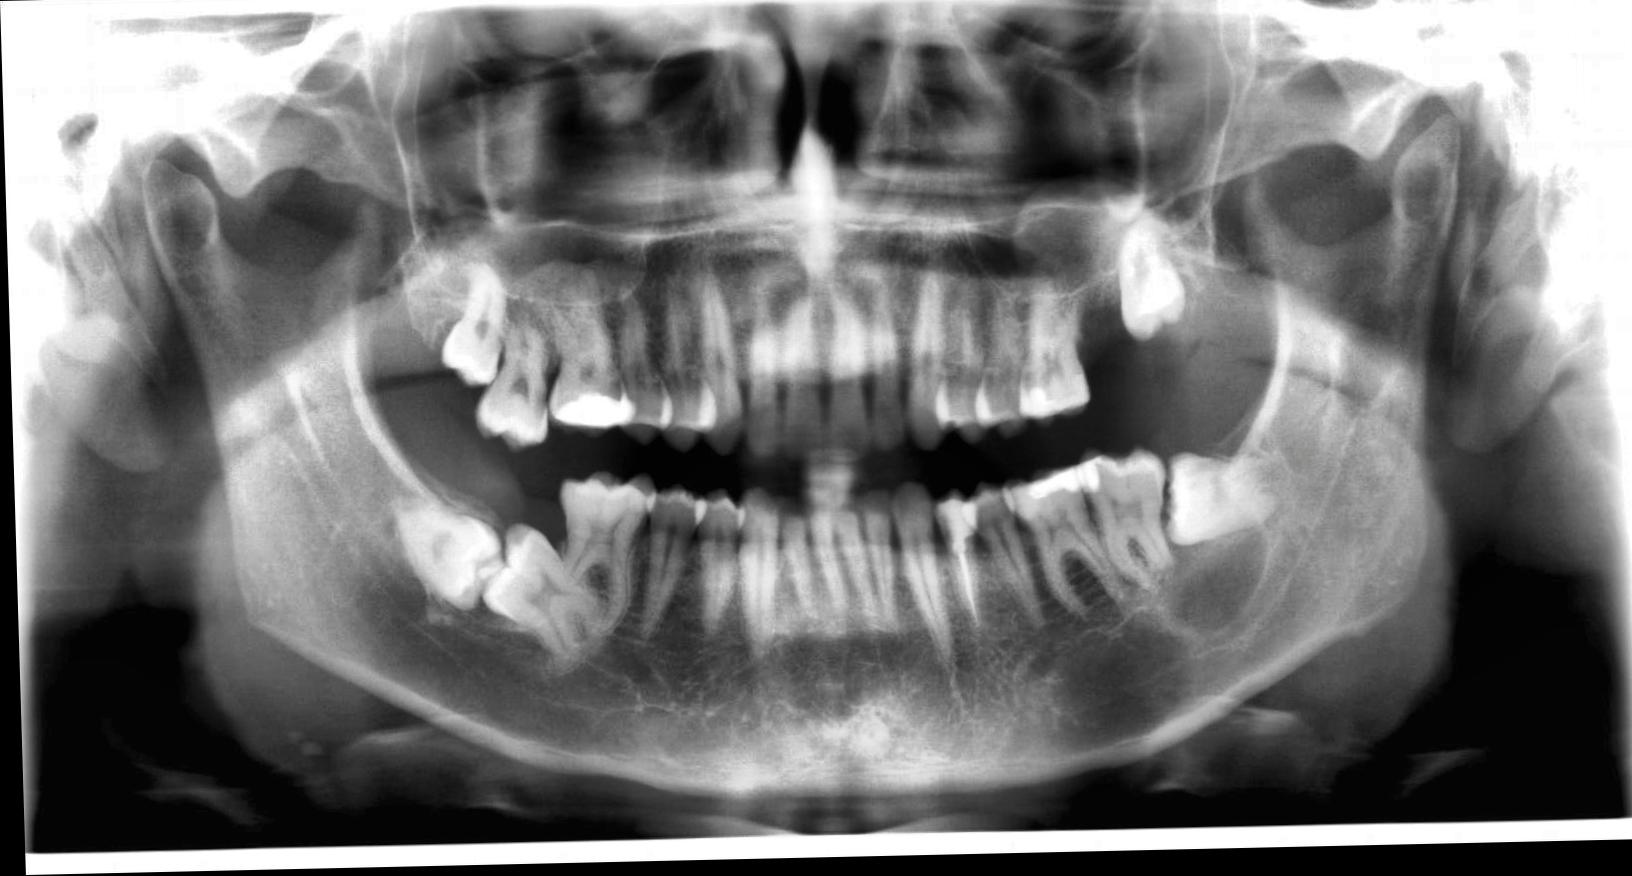dentigeroz: (1149, 521, 1271, 641)
